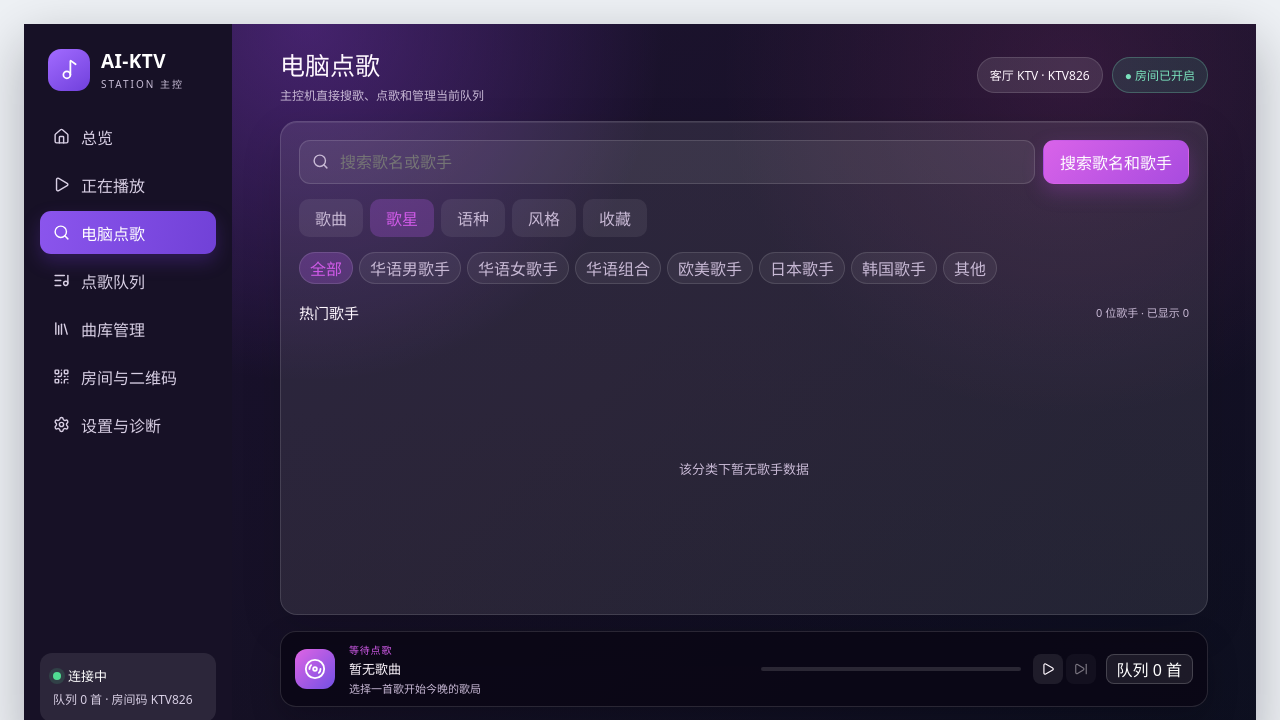
Scenario: mobile application shell › offers room recovery when the host token expires
This screenshot has width=1280, height=720.
Expected: the heading "电脑点歌" is shown, [280,48,380,82]
Click the button "正在播放" at coordinates (128, 184), box [40,163,216,206]
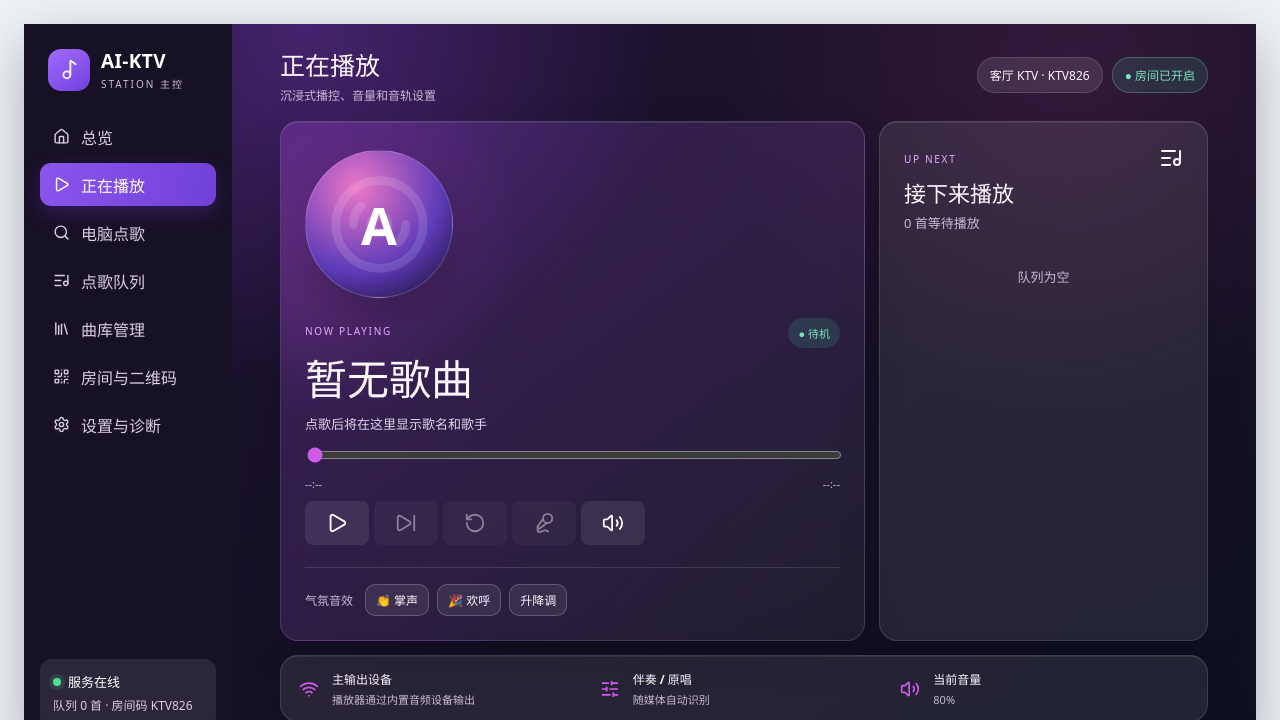
Click the button named "播放" at coordinates (337, 523), box [305,501,369,545]
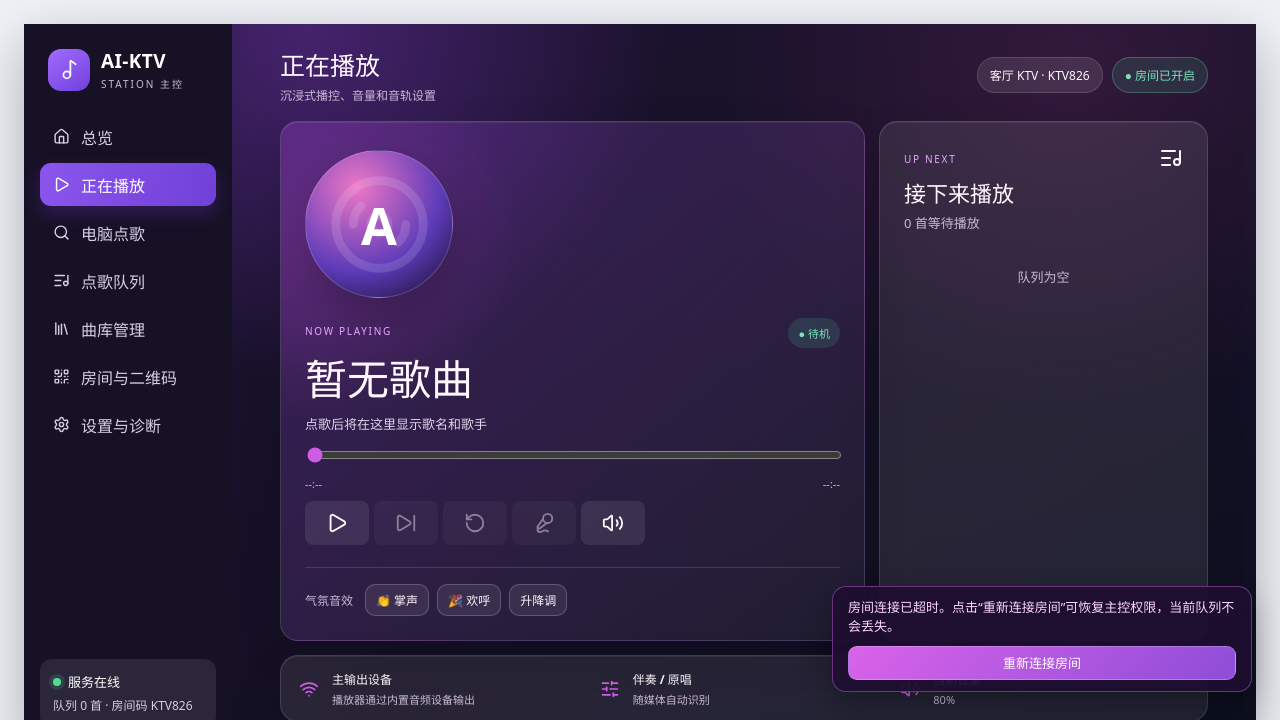
Expected: the message shows "房间连接已超时", [848,598,1234,635]
Click the button "重新连接房间" at coordinates (1042, 663), box [848,646,1236,680]
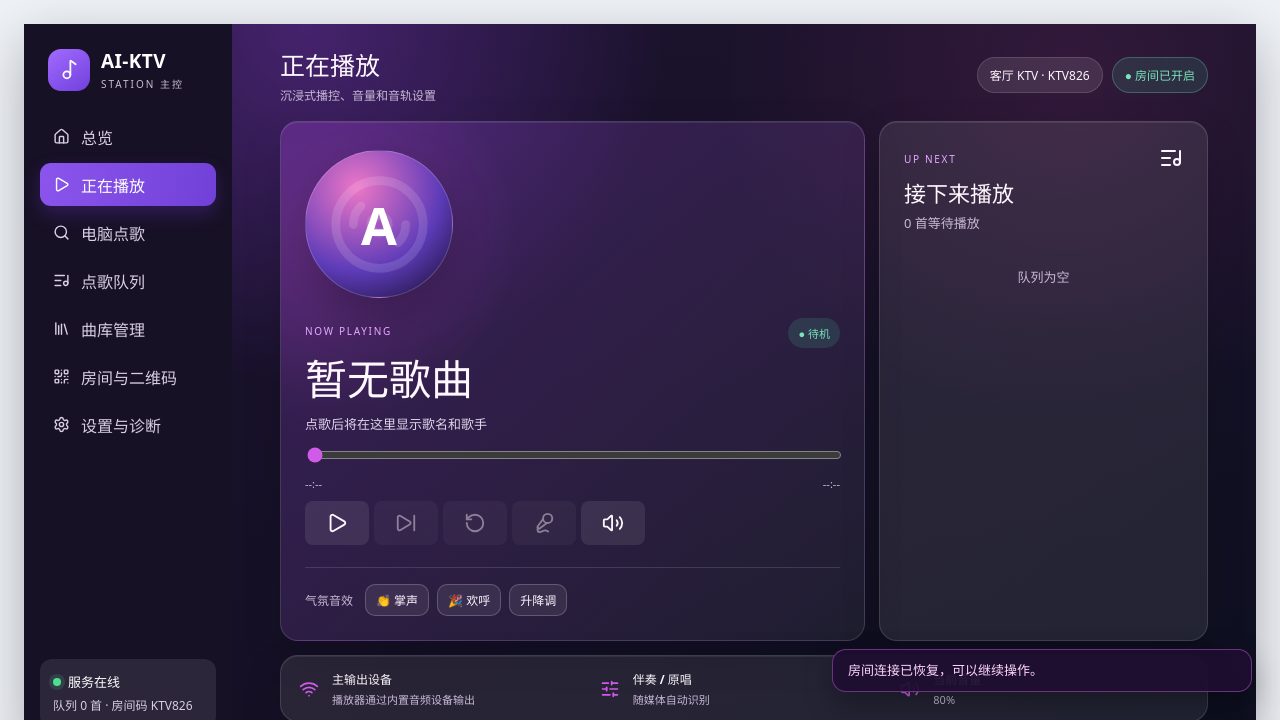
Expected: the message shows "房间连接已恢复", [848,661,1043,679]
